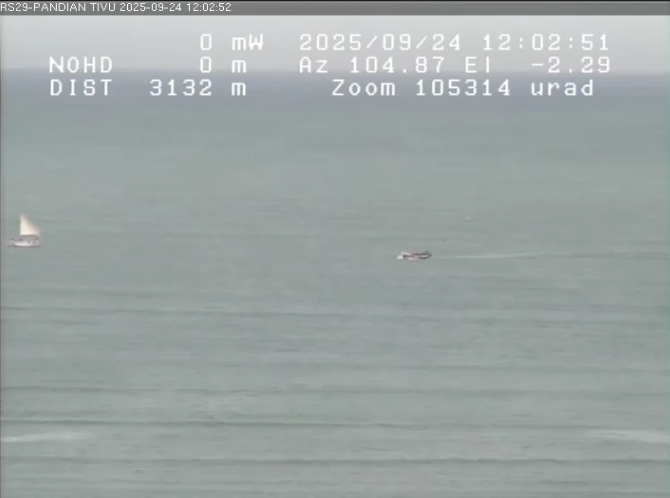FISHING_BOAT: (372, 240, 460, 262)
SAIL_BOAT: (5, 218, 59, 256)
